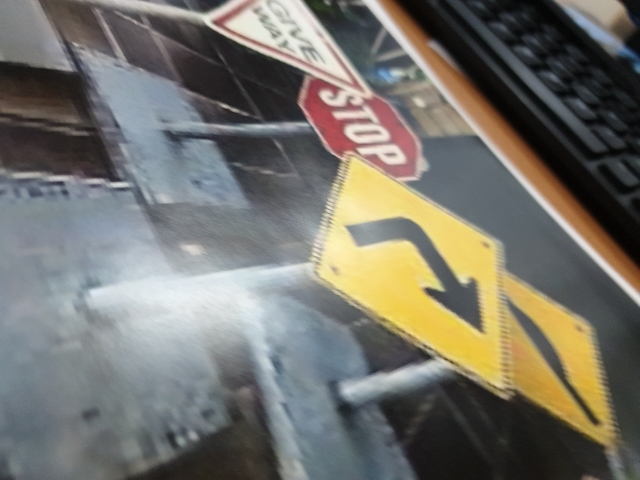giveway: (213, 5, 356, 79)
right: (330, 163, 524, 391)
stop: (294, 64, 441, 183)
